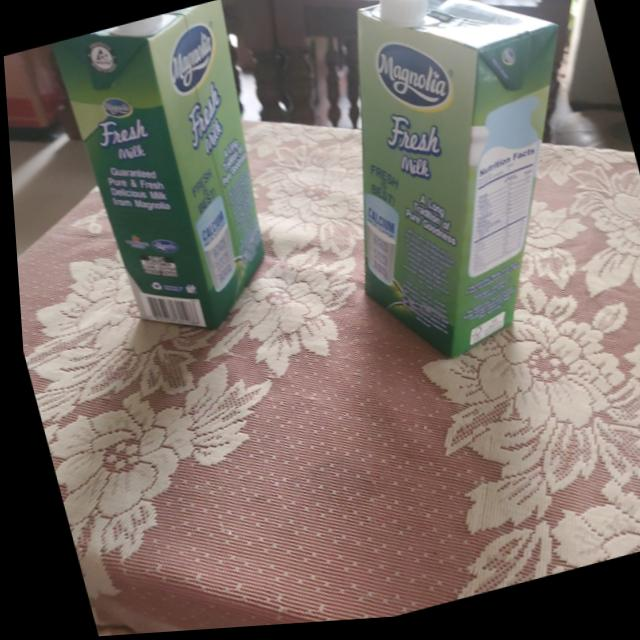milk: (286, 0, 628, 387), (42, 0, 301, 357)
